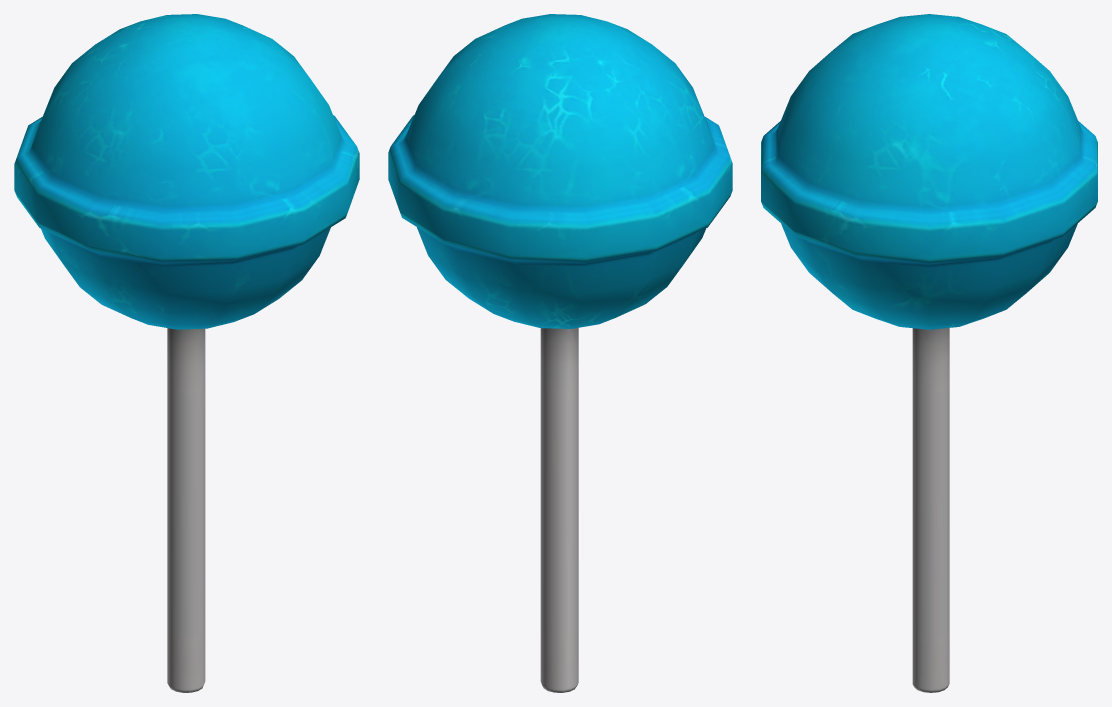
File: 0-lollipop_blue.fbx
3 views of the same model, side by side, from view 1: azimuth 30°, elevation 25°; view 2: azimuth 150°, elevation 25°; view 3: azimuth 270°, elevation 25° (orthographic).
Visible parts, largest first — view 1: 0-lollipop_blue; view 2: 0-lollipop_blue; view 3: 0-lollipop_blue.
Part boxes in pixels (x1=…): 0-lollipop_blue: x1=14, y1=14, x2=359, y2=692; 0-lollipop_blue: x1=388, y1=14, x2=732, y2=692; 0-lollipop_blue: x1=761, y1=14, x2=1097, y2=692.
Size of the model in its own units: 41.22 by 86.66 by 40.19.
